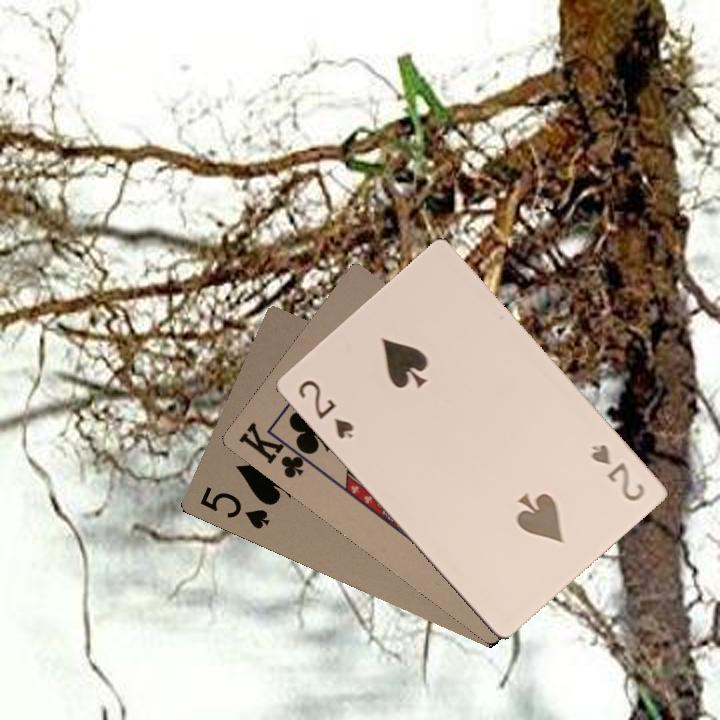2s: (294, 375, 356, 442), (587, 440, 648, 504)
5s: (196, 483, 272, 532)
Kc: (235, 417, 317, 481)
